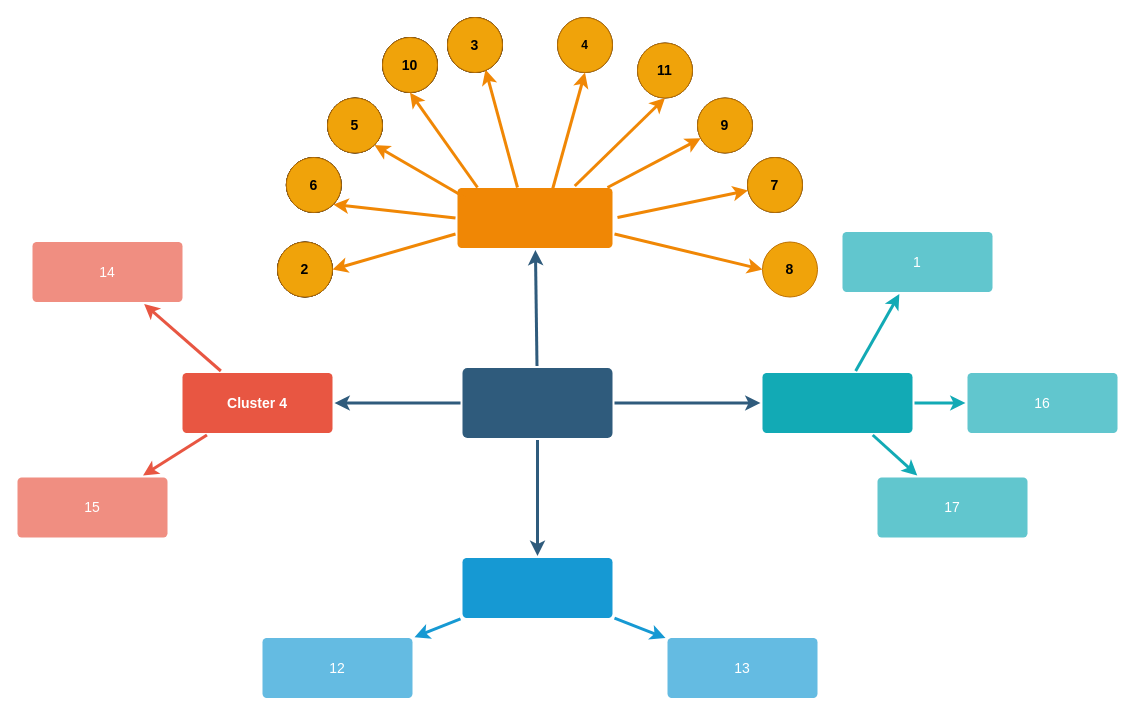
This 1134x715 diagram has some shape labels left out. Here are the shapes that lost their labels. From the top down, the centre of each, then its label:
At point (534, 218): "Cluster 1".
At point (537, 403): "K-Means".
At point (837, 402): "Cluster 2".
At point (537, 588): "Cluster 3".
